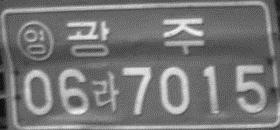0: (159, 65, 190, 116), (22, 68, 54, 116)
1: (196, 64, 228, 115)
5: (235, 64, 268, 114)
6: (58, 67, 90, 116)
7: (121, 66, 152, 115)
광주_D: (65, 17, 204, 58)
라: (91, 70, 119, 113)
영: (16, 20, 55, 61)
